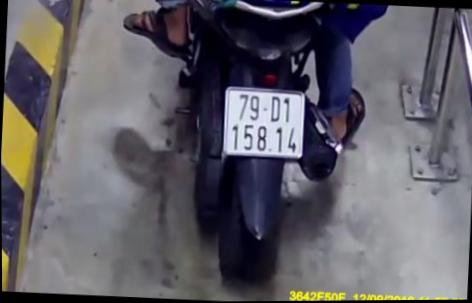LP: (223, 85, 305, 160), (224, 85, 305, 160)
